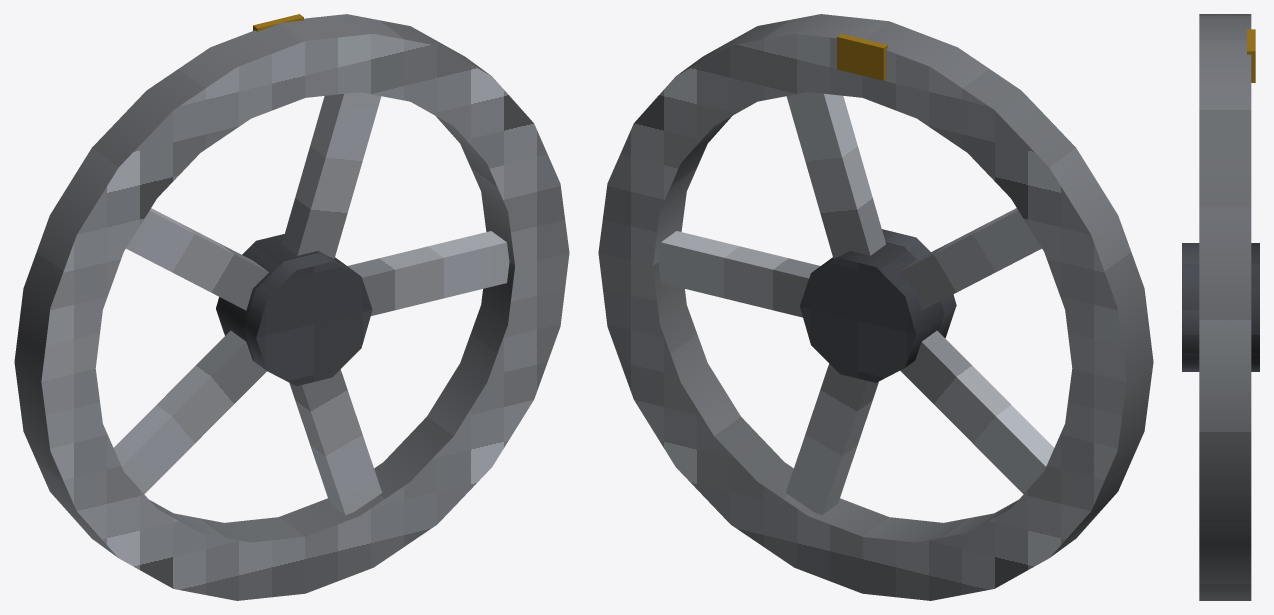
File: diesel_engine_flywheel.obj
3 views of the same model, side by side, from view 1: azimuth 30°, elevation 25°; view 2: azimuth 150°, elevation 25°; view 3: azimuth 270°, elevation 25° (orthographic). The views are drawn at different scales.
Size of the model in its own units: 0.68 by 0.68 by 0.09.
